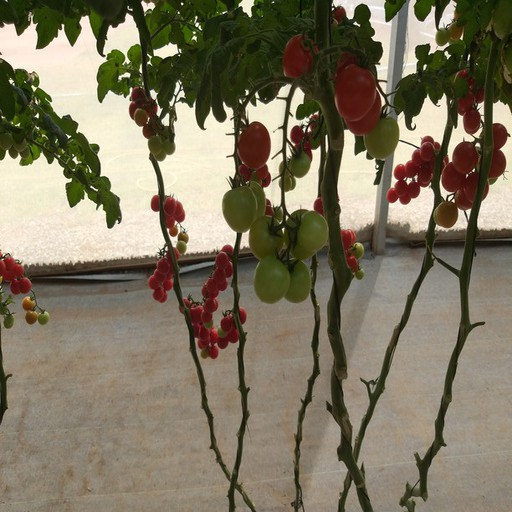green tomato bunch: (225, 181, 328, 305)
mixed tomato bunch: (130, 87, 175, 161)
red tomato bunch: (446, 71, 507, 206), (389, 139, 451, 202), (200, 244, 235, 322), (180, 295, 220, 360), (150, 242, 181, 301), (150, 192, 186, 236), (1, 253, 31, 293), (219, 309, 245, 348)
